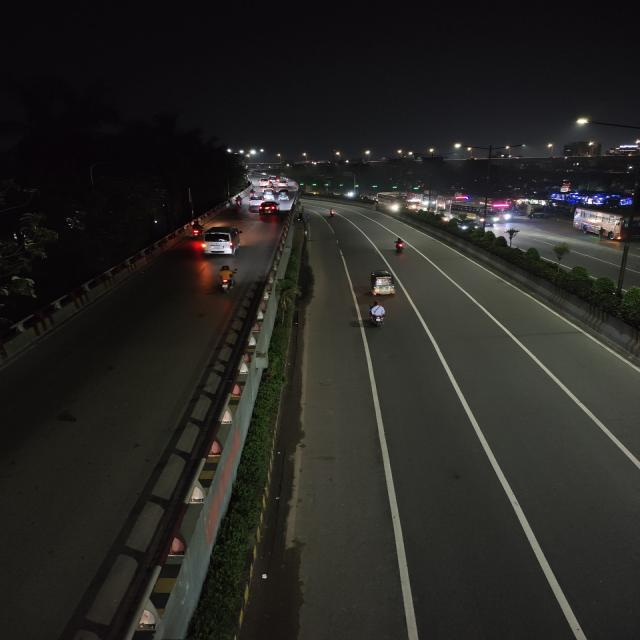bus: (572, 205, 640, 243), (449, 201, 512, 225), (487, 200, 515, 221), (377, 194, 404, 212)
car: (200, 225, 244, 257), (258, 200, 279, 216)
cng: (364, 268, 398, 296), (276, 189, 290, 201), (262, 190, 275, 200)
motorcycle: (213, 263, 241, 295), (362, 300, 392, 329), (390, 236, 408, 256), (187, 221, 204, 239), (326, 206, 338, 218), (233, 197, 243, 207), (248, 192, 258, 199)
pedestrian: (596, 226, 606, 240)
